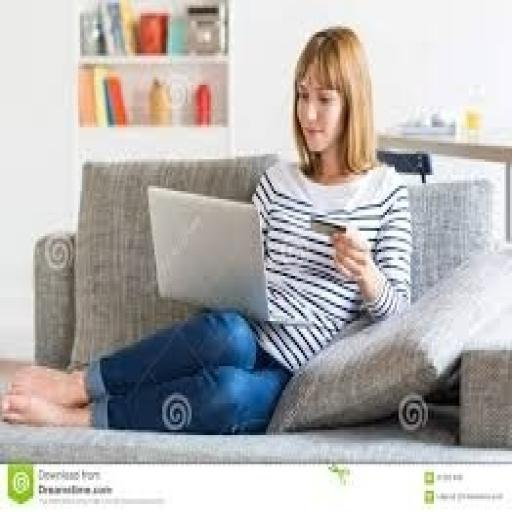using_laptop: (144, 183, 310, 326)
